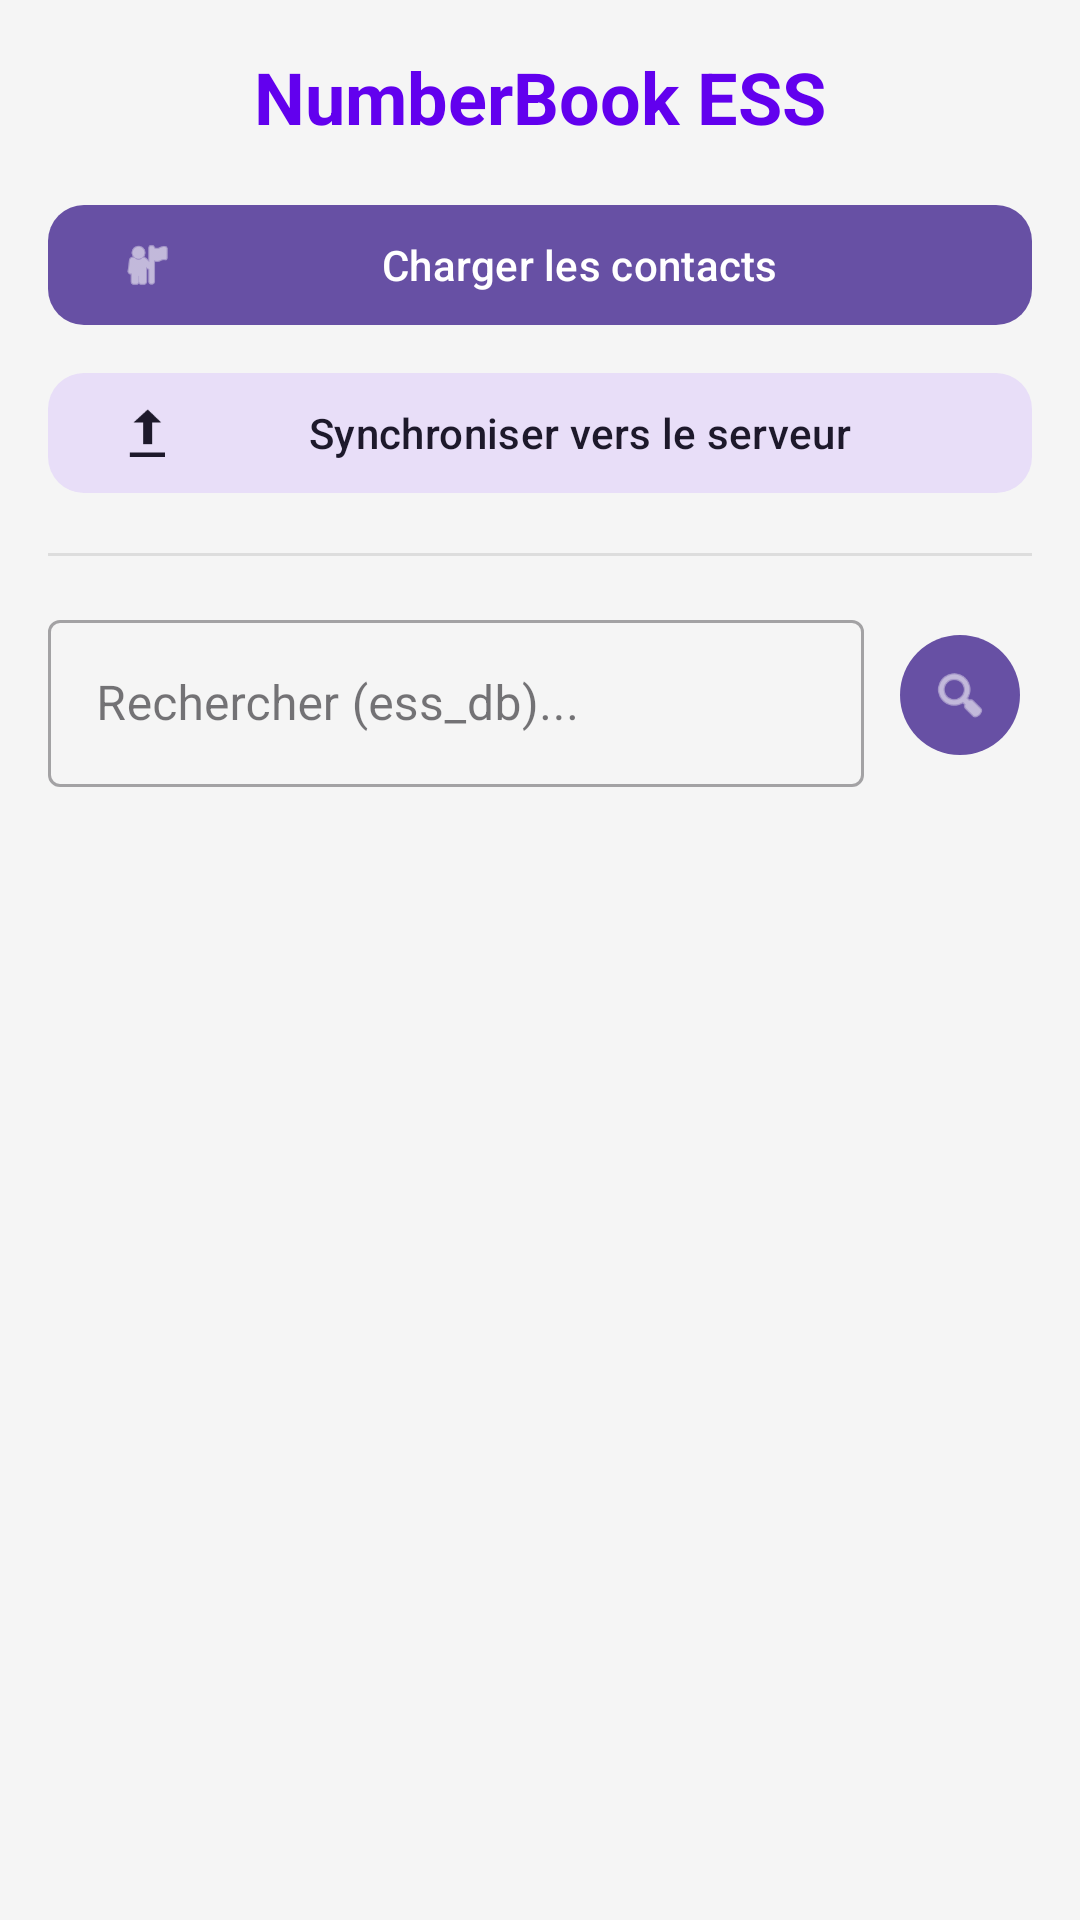

Screen size 1080 × 1920. Icon name, then its center in pixels as [x,y]:
search: [960,695]
